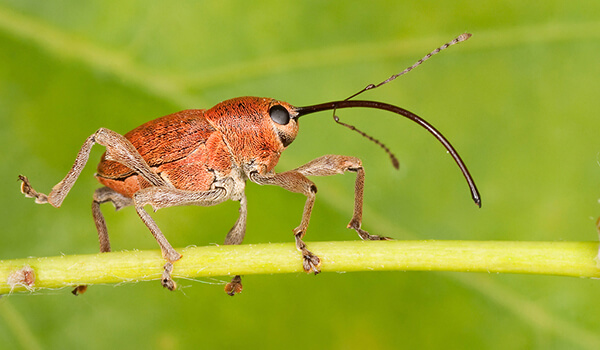dolgonosik: (11, 28, 490, 288)
